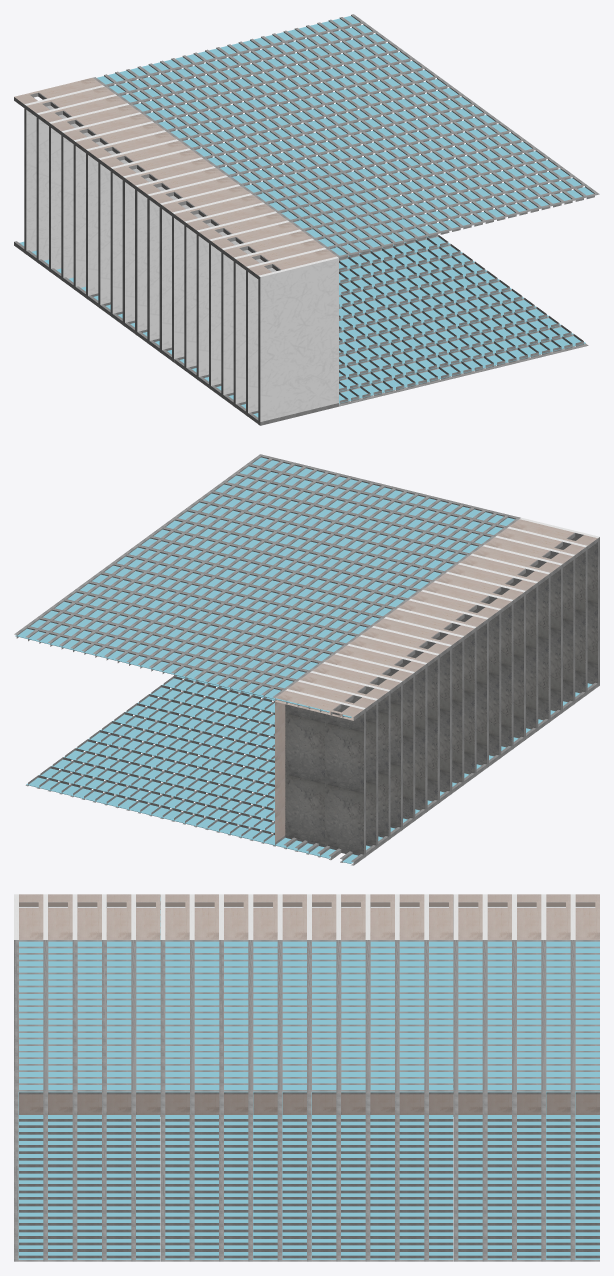
Rendered from platformENDS.fbx.
3 renders of one model, top to bottom at view 1: azimuth 30°, elevation 25°; view 2: azimuth 150°, elevation 25°; view 3: azimuth 270°, elevation 25°, orthographic. The views are drawn at different scales.
Visible parts, largest first — view 1: PlatformStart, PlatformEnd; view 2: PlatformEnd, PlatformStart; view 3: PlatformStart, PlatformEnd.
Part boxes in pixels (x1,y1,x2,y2): PlatformStart: [14, 77, 588, 425]; PlatformEnd: [22, 14, 599, 424]; PlatformEnd: [14, 454, 597, 857]; PlatformStart: [25, 517, 599, 865]; PlatformStart: [14, 894, 599, 1261]; PlatformEnd: [14, 895, 599, 1116].
Bounding box in the file's own units: 56197 × 23534 × 70608.
12 materials, 12 textured.
